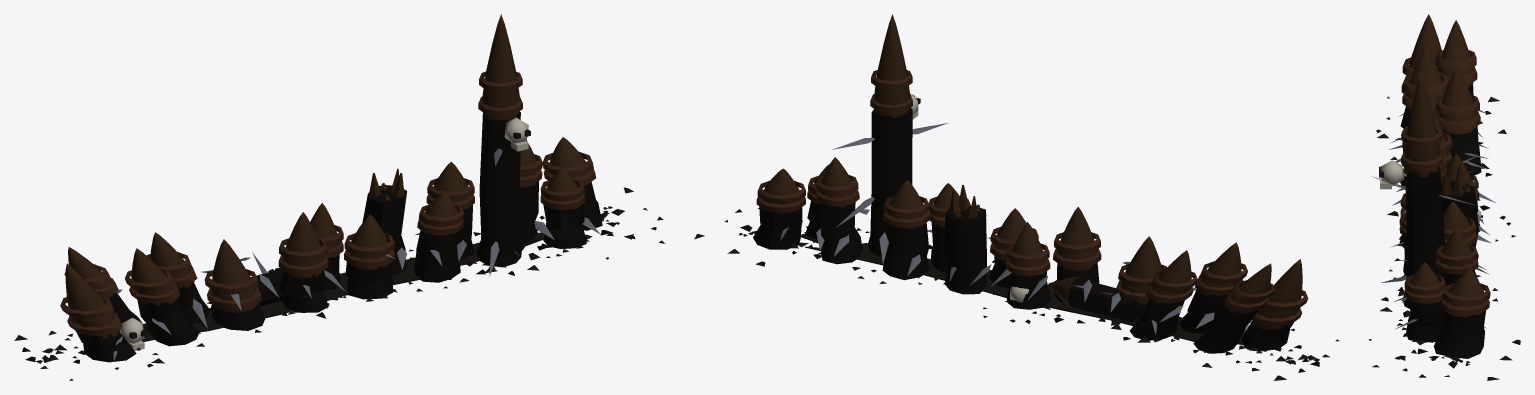
The model's file is TarPRWall06a.glb.
The picture shows the model from 3 angles, left to right: view 1: azimuth 30°, elevation 25°; view 2: azimuth 150°, elevation 25°; view 3: azimuth 270°, elevation 25°; orthographic projection. The views are drawn at different scales.
Visible parts, largest first — view 1: pal_body; view 2: pal_body; view 3: pal_body.
Boxes of the visible parts, x1,y1,x2,y2 form: pal_body: (14, 14, 665, 380); pal_body: (694, 14, 1339, 380); pal_body: (1368, 14, 1520, 380).
Bounding box in the file's own units: 15.11 × 5.64 × 3.36.
